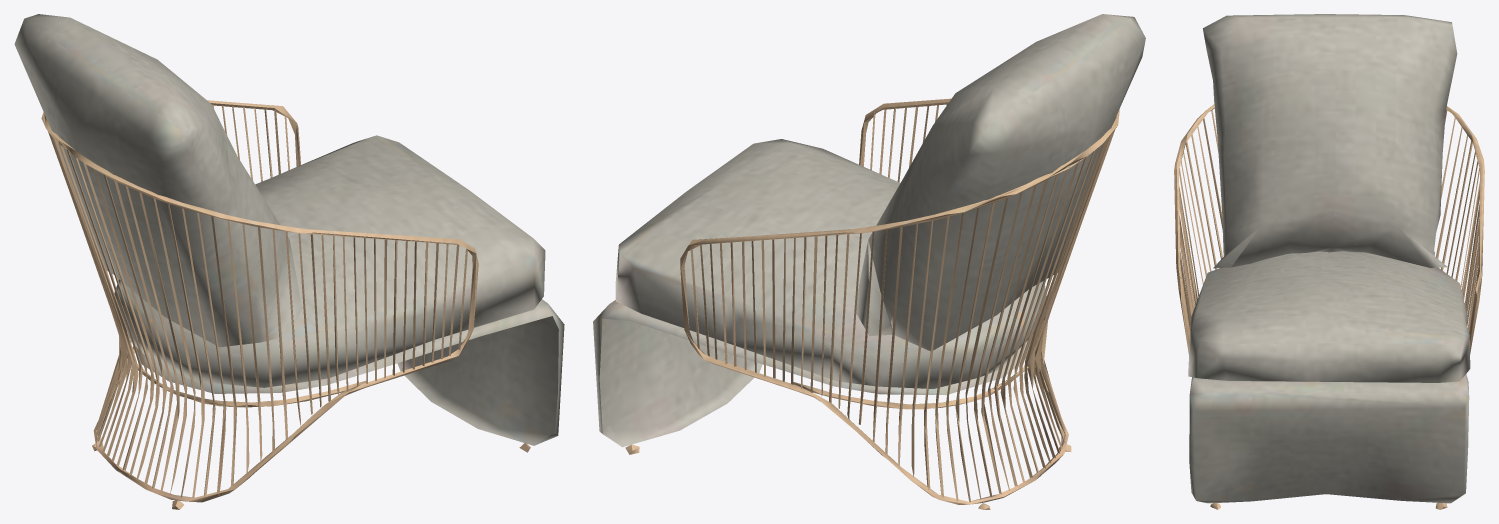
The model's file is S_Sofa0015.obj.
3 views of the same model, side by side, from view 1: azimuth 30°, elevation 25°; view 2: azimuth 150°, elevation 25°; view 3: azimuth 270°, elevation 25° (orthographic). The views are drawn at different scales.
Size of the model in its own units: 0.724 by 0.721 by 0.574.
1 material, 1 textured.
